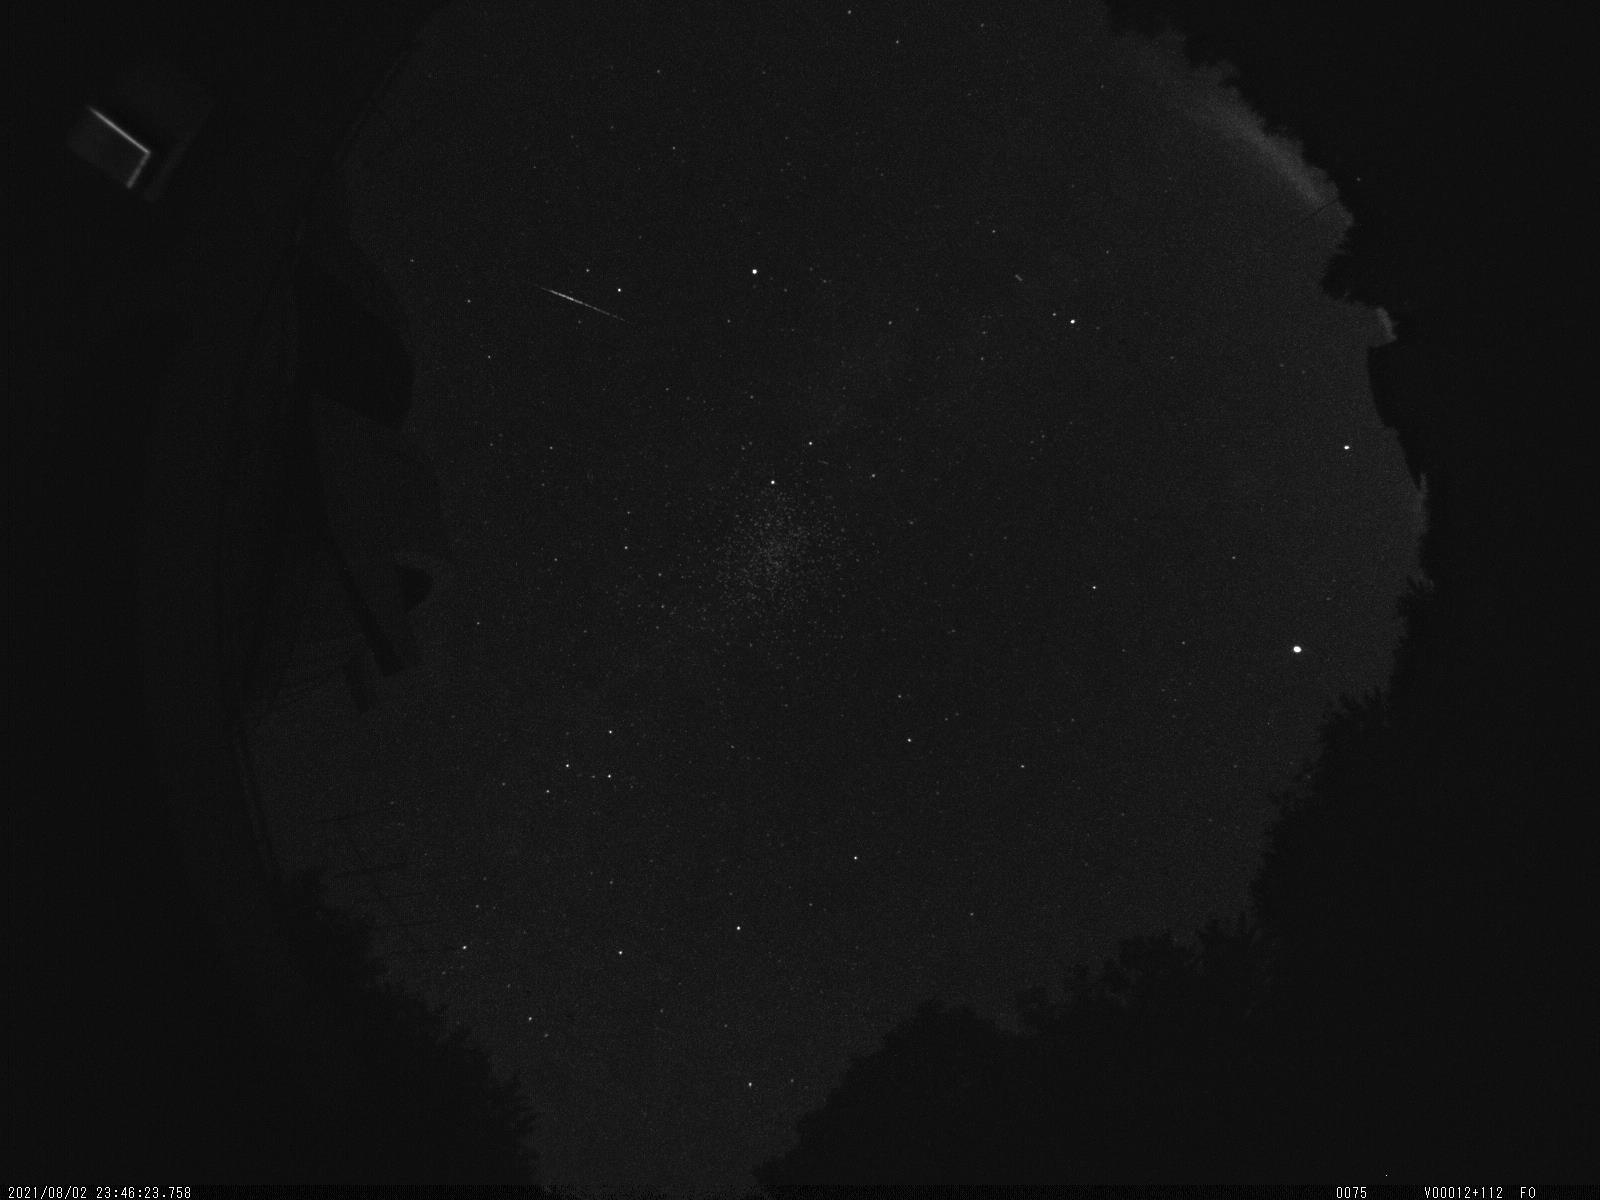Meteor: (530, 284, 626, 325)
